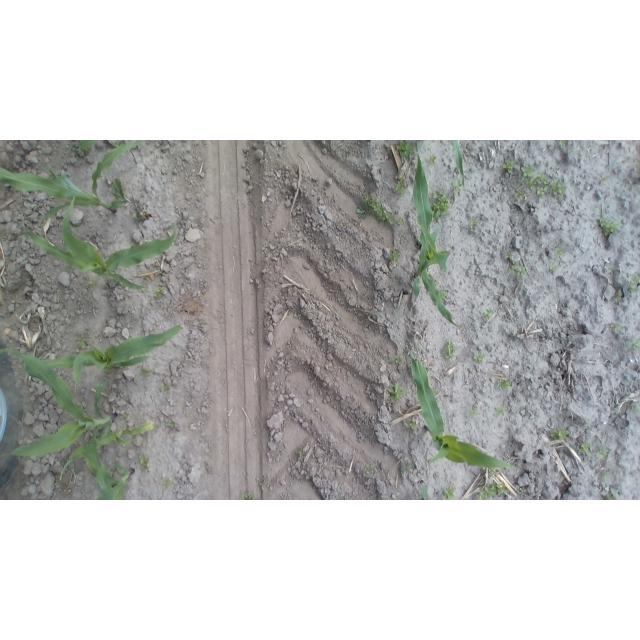Maize: (1, 348, 156, 492), (18, 194, 182, 291), (410, 348, 517, 472), (0, 142, 144, 222), (6, 321, 185, 385), (406, 151, 459, 329), (57, 419, 154, 485), (70, 424, 140, 498), (449, 141, 465, 183), (76, 140, 115, 154), (418, 481, 434, 500)
Weeds: (358, 194, 397, 227), (522, 169, 563, 199), (430, 190, 451, 221), (504, 251, 526, 279), (475, 481, 508, 499), (597, 218, 620, 239), (442, 340, 459, 363), (389, 382, 408, 402), (397, 140, 415, 158), (386, 247, 403, 264), (75, 333, 91, 351), (548, 426, 568, 440), (134, 207, 151, 223), (494, 378, 513, 391), (153, 284, 168, 300), (74, 142, 95, 153), (139, 453, 151, 472), (502, 159, 517, 174), (443, 485, 458, 500), (399, 462, 416, 475), (394, 179, 407, 196), (628, 274, 638, 295), (451, 179, 463, 196), (596, 446, 610, 460), (159, 381, 174, 394), (554, 242, 566, 258), (471, 350, 485, 363), (136, 368, 154, 378), (406, 419, 419, 432), (495, 405, 508, 418), (389, 355, 403, 367), (468, 216, 480, 230), (364, 461, 376, 475), (239, 491, 257, 500), (580, 443, 592, 456), (427, 154, 438, 167), (483, 309, 496, 320), (608, 264, 621, 275), (613, 291, 624, 304), (165, 419, 179, 429), (554, 141, 569, 150), (611, 323, 623, 334), (628, 401, 640, 412), (161, 478, 172, 490), (296, 446, 306, 459), (548, 264, 561, 274), (486, 467, 500, 476), (600, 471, 612, 481), (515, 189, 525, 200), (469, 408, 479, 419), (86, 279, 98, 288), (599, 174, 609, 184), (567, 382, 576, 393), (439, 291, 450, 300), (518, 486, 529, 495), (105, 366, 116, 375), (631, 337, 638, 351), (632, 160, 640, 172), (110, 140, 122, 148), (608, 491, 620, 499), (397, 216, 406, 226), (160, 269, 169, 279), (140, 275, 149, 284), (124, 412, 131, 421), (444, 266, 450, 274)
